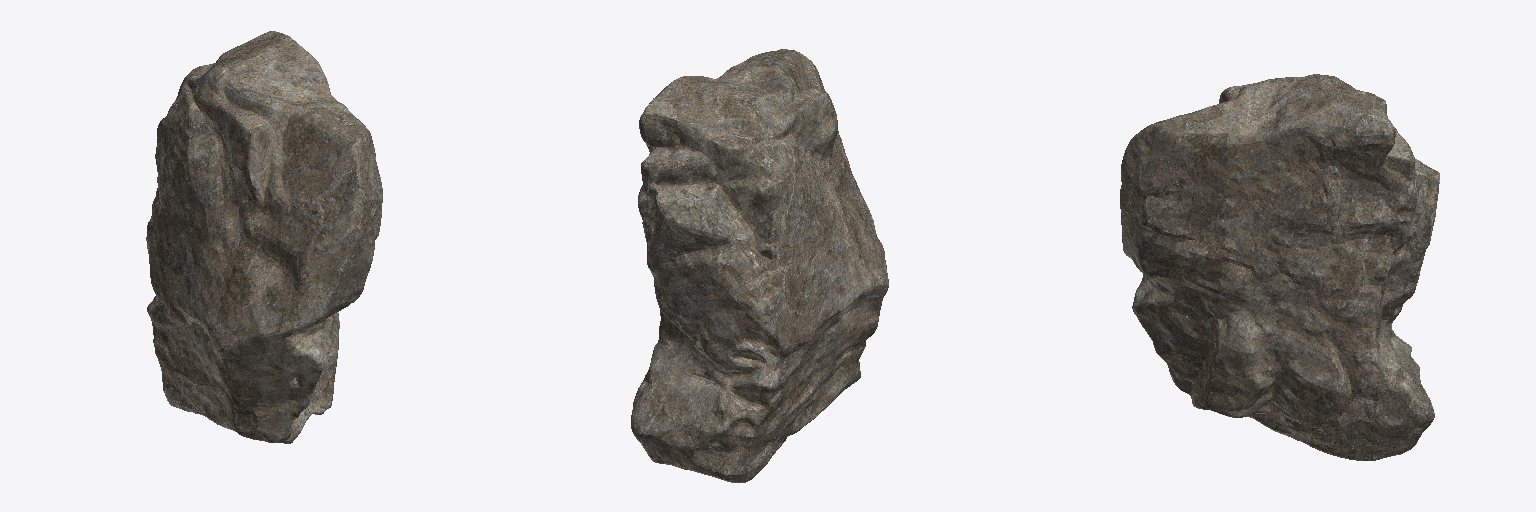
The picture shows the model from 3 angles: view 1: azimuth 30°, elevation 25°; view 2: azimuth 150°, elevation 25°; view 3: azimuth 270°, elevation 25°; orthographic projection.
Parts seen in each view (by area): view 1: g Rock_9; view 2: g Rock_9; view 3: g Rock_9.
Part boxes in pixels (bbox=[...]): g Rock_9: bbox=[146, 31, 382, 443]; g Rock_9: bbox=[631, 49, 888, 482]; g Rock_9: bbox=[1120, 74, 1439, 460].
Size of the model in its own units: 136 by 303 by 241.
1 materials, 1 textured.